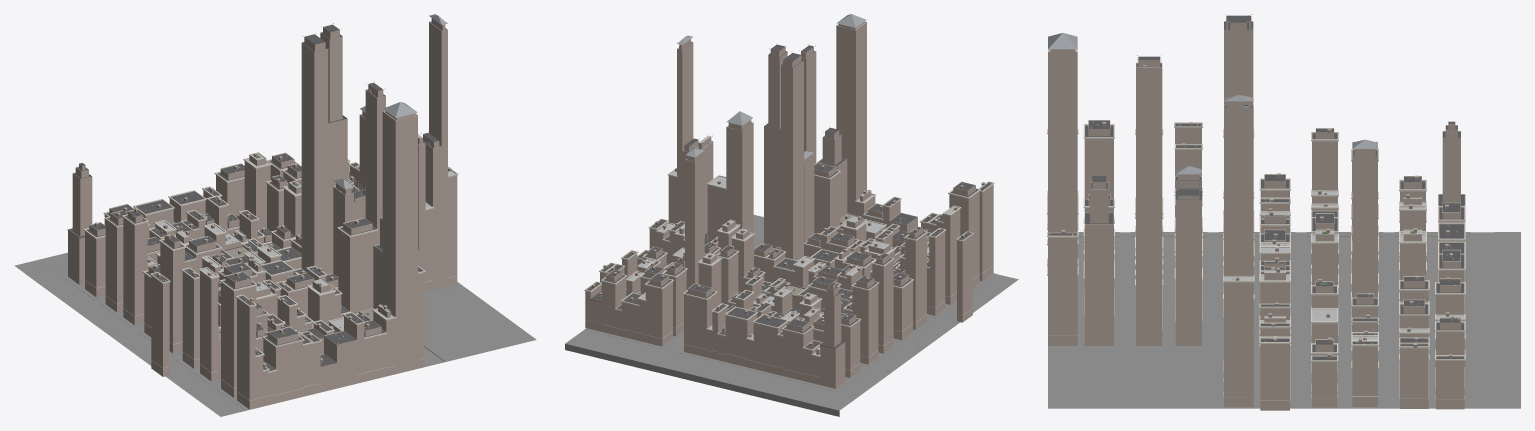
3 renders of one model, left to right at view 1: azimuth 30°, elevation 25°; view 2: azimuth 150°, elevation 25°; view 3: azimuth 270°, elevation 25°, orthographic. The views are drawn at different scales.
Parts seen in each view (by area): view 1: t10_facade, t10_ground, t10_detail, t10_roof; view 2: t10_facade, t10_ground, t10_detail, t10_roof; view 3: t10_facade, t10_ground, t10_detail, t10_roof.
Boxes of the visible parts, x1,y1,x2,y2 form: t10_facade: (68, 18, 457, 409); t10_ground: (14, 252, 536, 416); t10_detail: (67, 21, 458, 400); t10_roof: (69, 14, 455, 371); t10_facade: (585, 22, 993, 388); t10_ground: (565, 215, 1018, 416); t10_detail: (584, 21, 994, 377); t10_roof: (587, 14, 992, 355); t10_facade: (1048, 21, 1464, 410); t10_ground: (1048, 232, 1520, 408); t10_detail: (1047, 21, 1465, 401); t10_roof: (1048, 14, 1464, 360).
Bounding box in the file's own units: 388 × 331 × 431.
